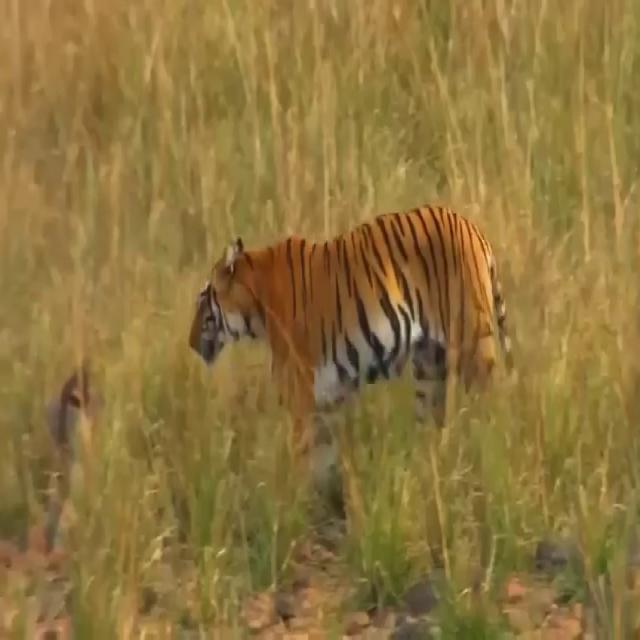tiger: (189, 206, 546, 604)
